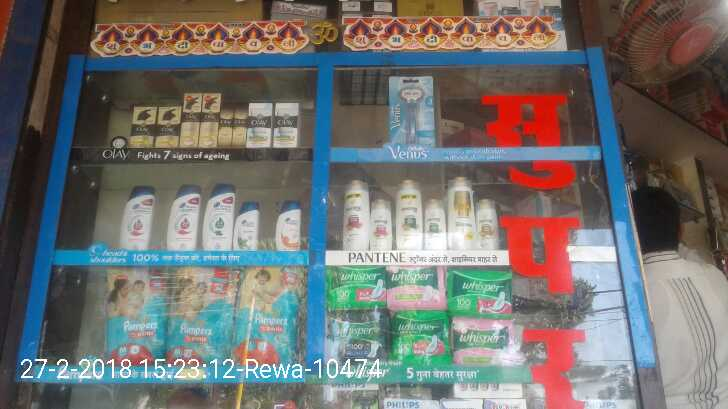venus: (390, 75, 436, 146)
